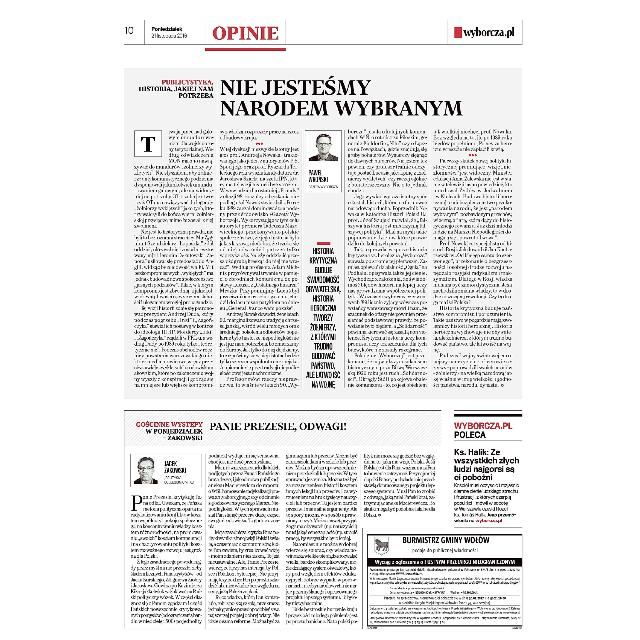article: (121, 65, 525, 401), (122, 408, 444, 632)
